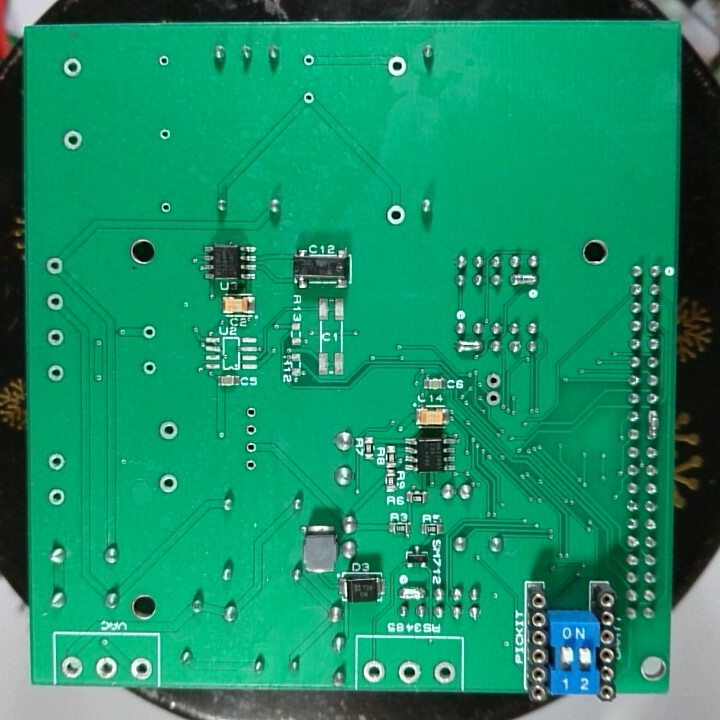F: (91, 653, 120, 681), (127, 653, 154, 683), (429, 658, 457, 686), (394, 659, 425, 684), (360, 658, 387, 686), (59, 56, 85, 82), (59, 654, 85, 680), (60, 128, 87, 153), (155, 418, 181, 443), (384, 203, 408, 229), (385, 55, 410, 78), (44, 362, 68, 385), (156, 472, 180, 495), (43, 326, 68, 348), (42, 290, 66, 312), (45, 450, 67, 473), (46, 486, 68, 509), (44, 255, 67, 276), (140, 358, 159, 378), (484, 389, 504, 408), (485, 372, 505, 390), (155, 51, 171, 73), (140, 323, 157, 343), (300, 89, 318, 107), (300, 51, 317, 68), (157, 126, 174, 143), (243, 438, 260, 455), (158, 200, 175, 216), (243, 404, 259, 421), (243, 457, 259, 474), (244, 423, 260, 438)
P: (508, 270, 539, 289), (645, 409, 662, 443), (454, 337, 482, 356), (397, 585, 428, 602)
